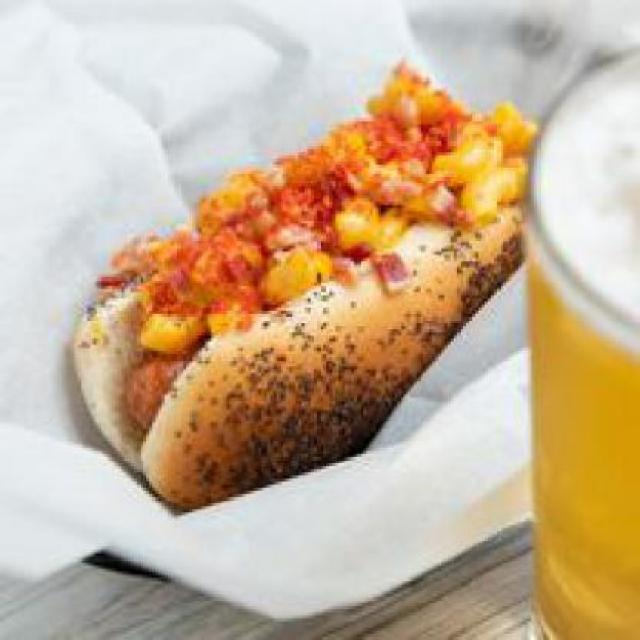hot dog: (112, 329, 192, 426)
macaroni and cheese: (96, 59, 529, 308)
